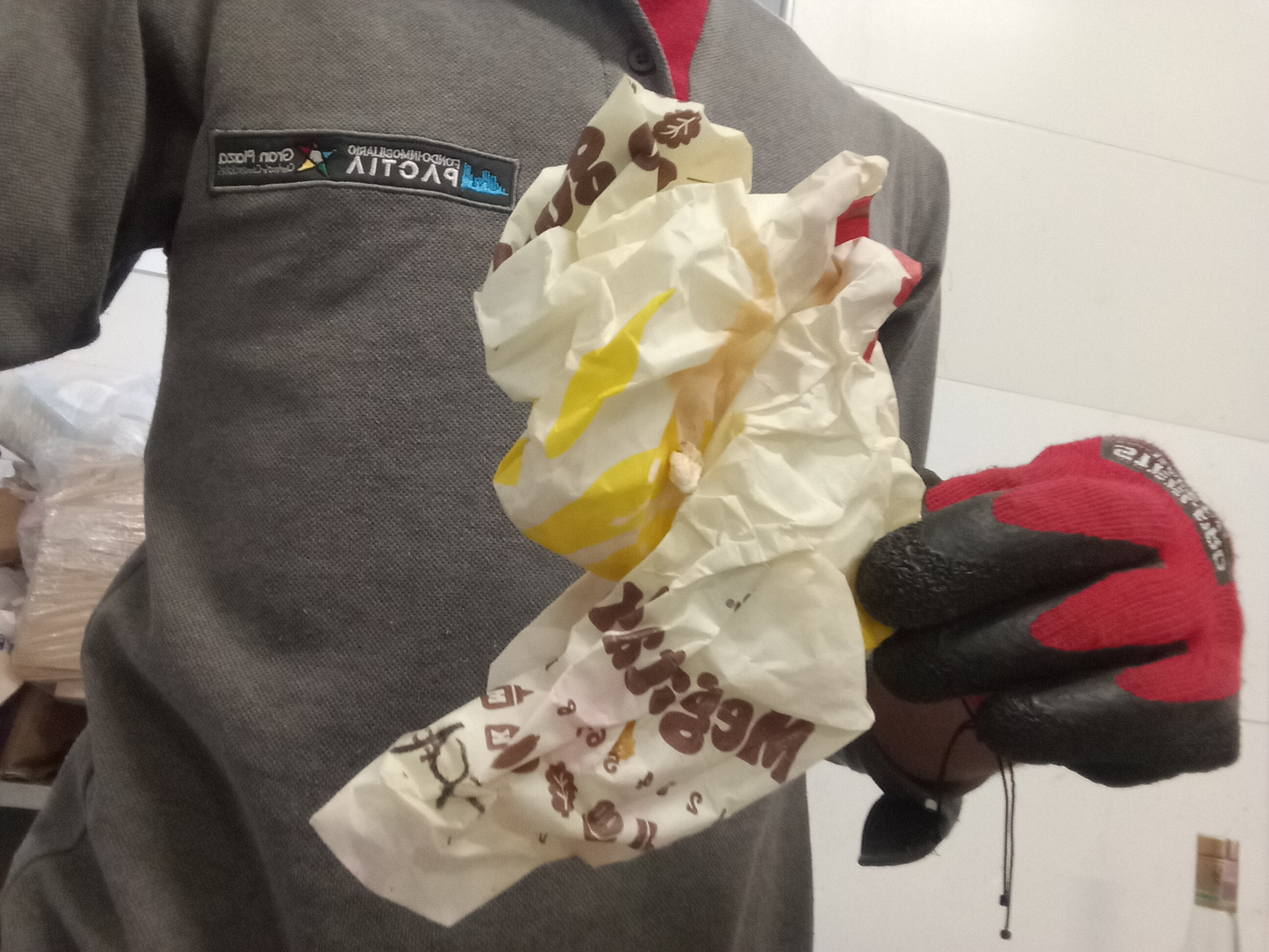Papel: (305, 76, 929, 928)
